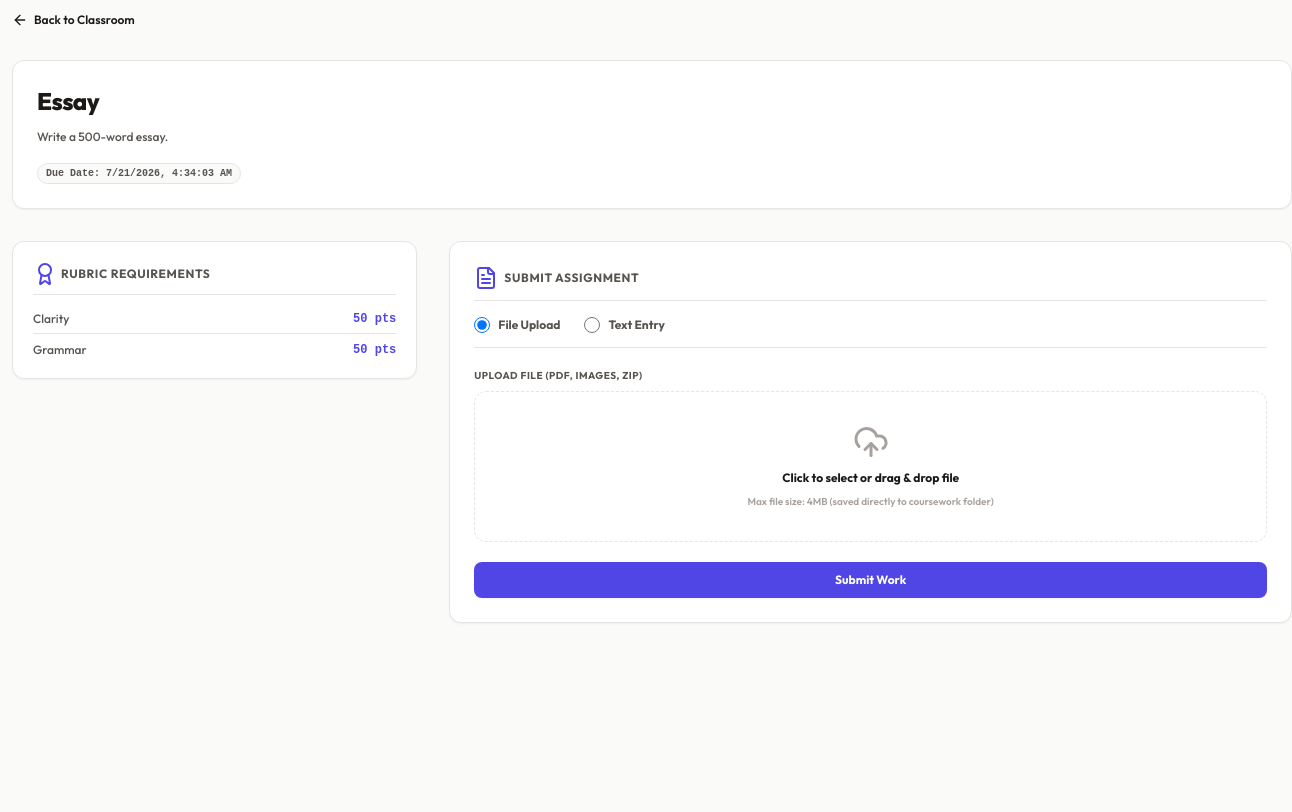
it: StudentAssignmentDetailPage › shows the Start Submission form when nothing has been submitted, and submitting reloads to the Submitted state
Expected: the heading "Submit Assignment" is shown, left=474, top=266, right=1267, bottom=300
Step 1. Click the radio button labelled "Text Entry" → click(592, 324), box left=584, top=316, right=600, bottom=332
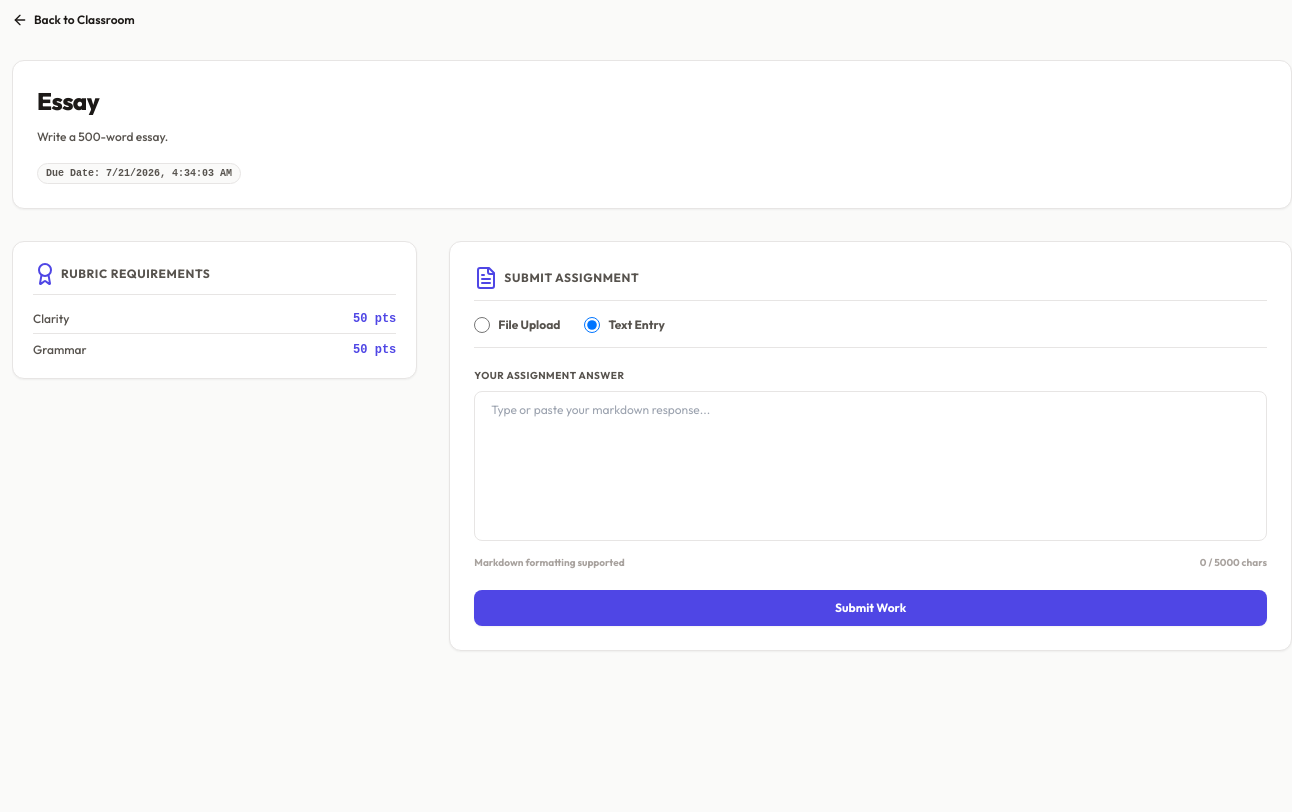
Step 2. Type "My draft." into the text box with placeholder "Type or paste your markdown response..." → (871, 466), box left=474, top=390, right=1267, bottom=540
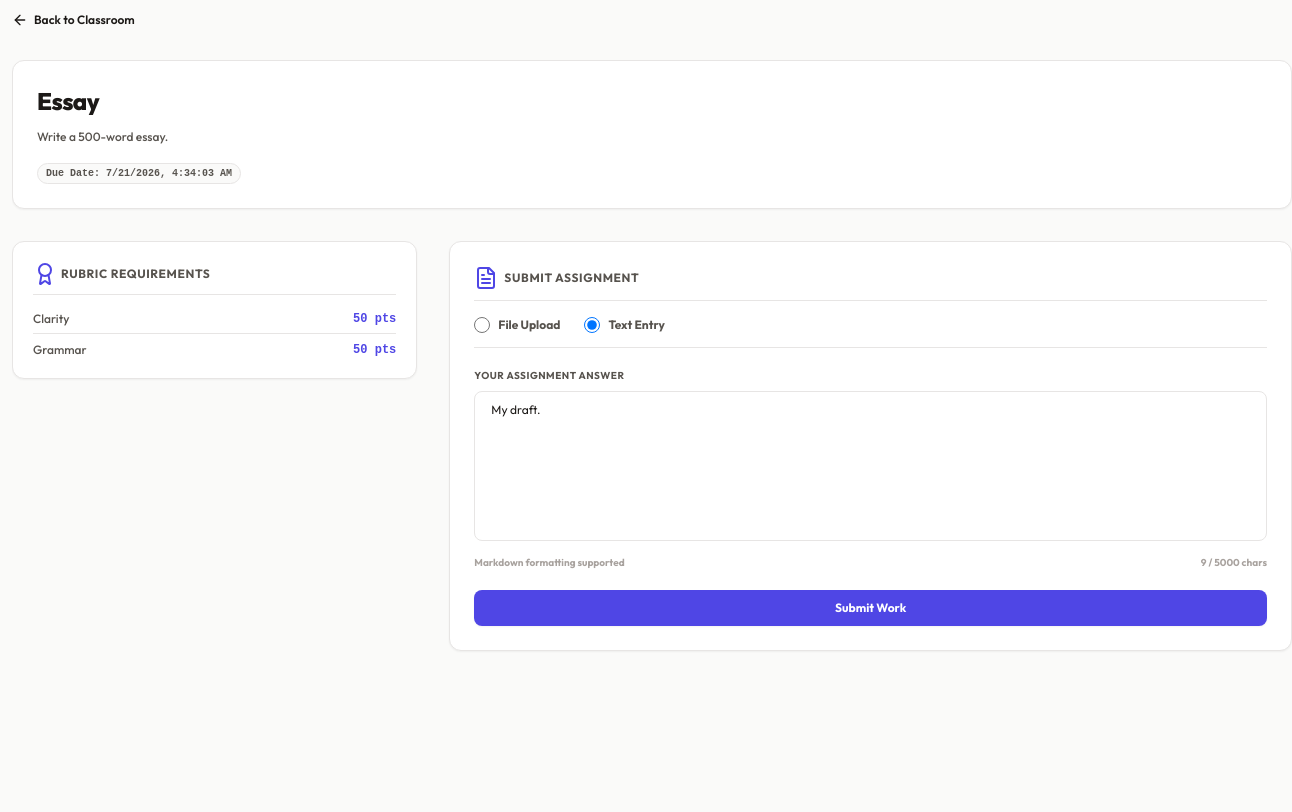
Step 3. Click the button "Submit Work" → click(871, 608), box left=474, top=590, right=1267, bottom=626
Wait 1000 ms
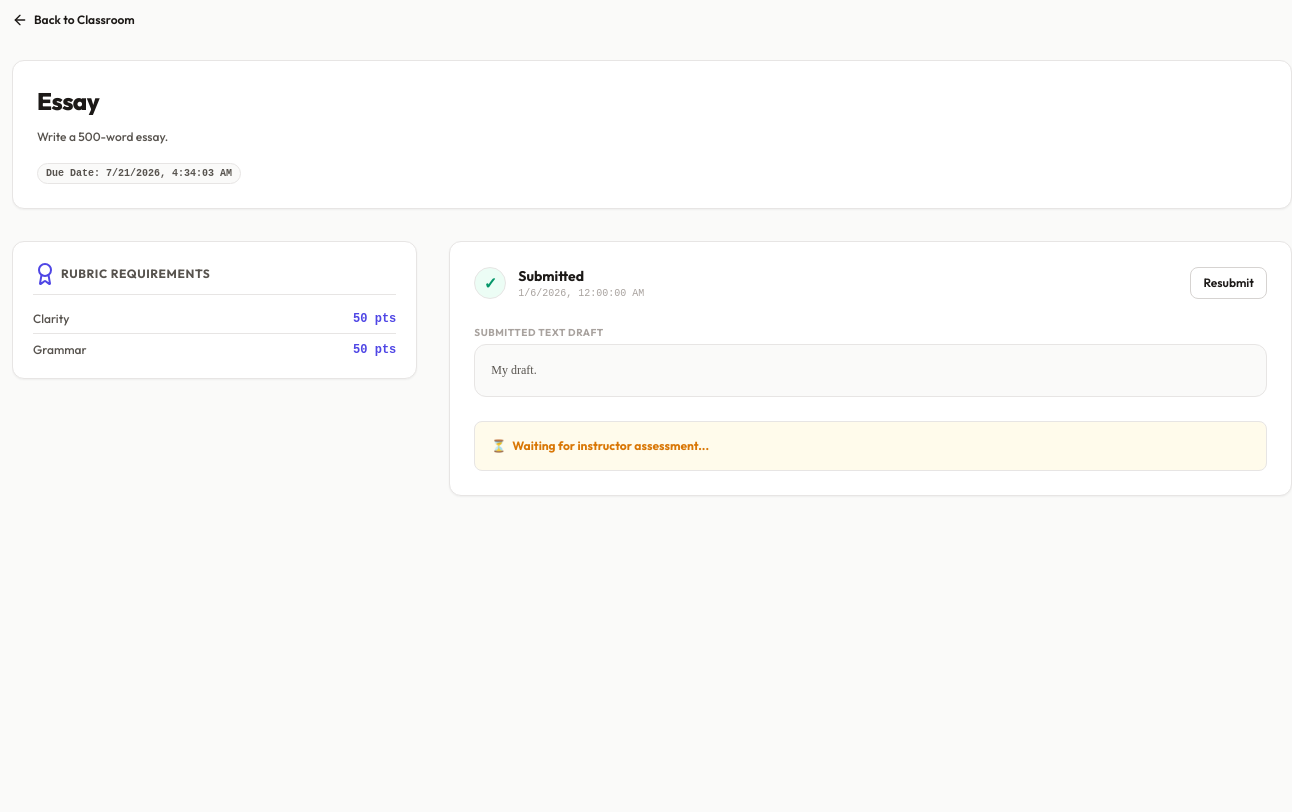
Now the heading "Submit Assignment" is gone
Now the heading "Submitted" is shown, box left=518, top=266, right=584, bottom=284
